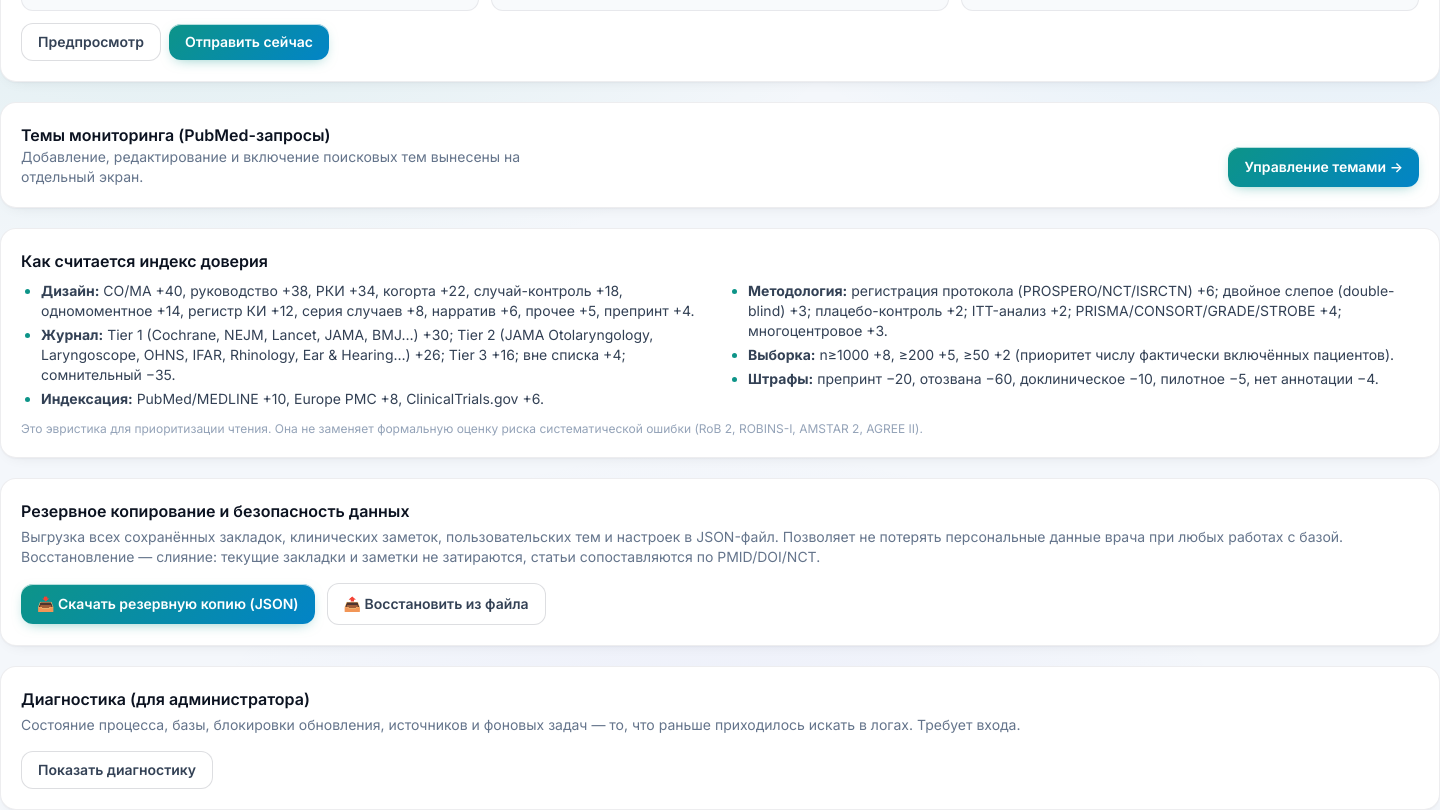
<SettingsPanel /> › диагностика: ошибка действия показывает текст сервера
The width and height of the screenshot is (1440, 810).
(page scrolled)
Step 1. Click the button "Показать диагностику" → coordinates (117, 770), box [21,750,213,788]
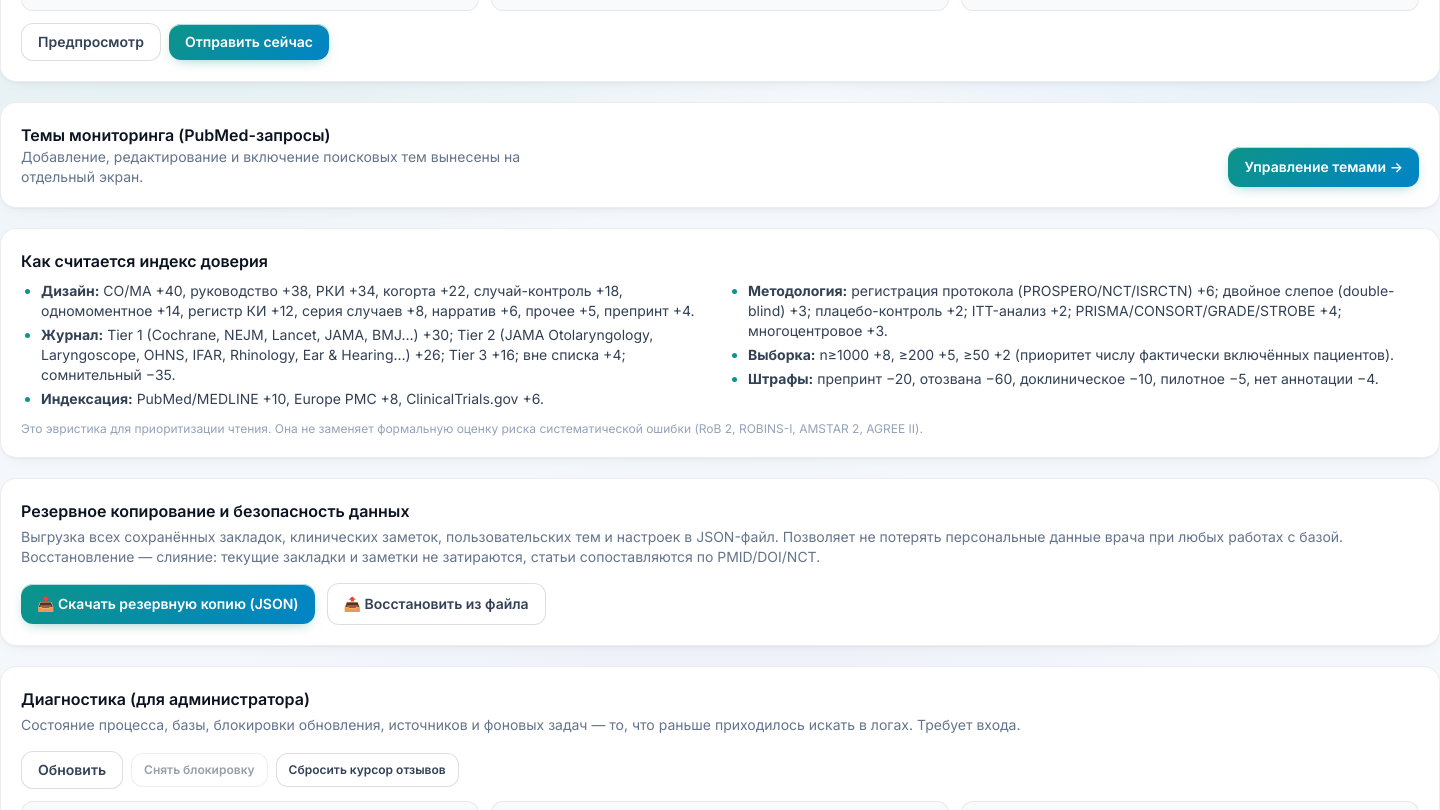
Step 2. Click the button "Сбросить курсор отзывов" → coordinates (367, 770), box [276,752,459,786]
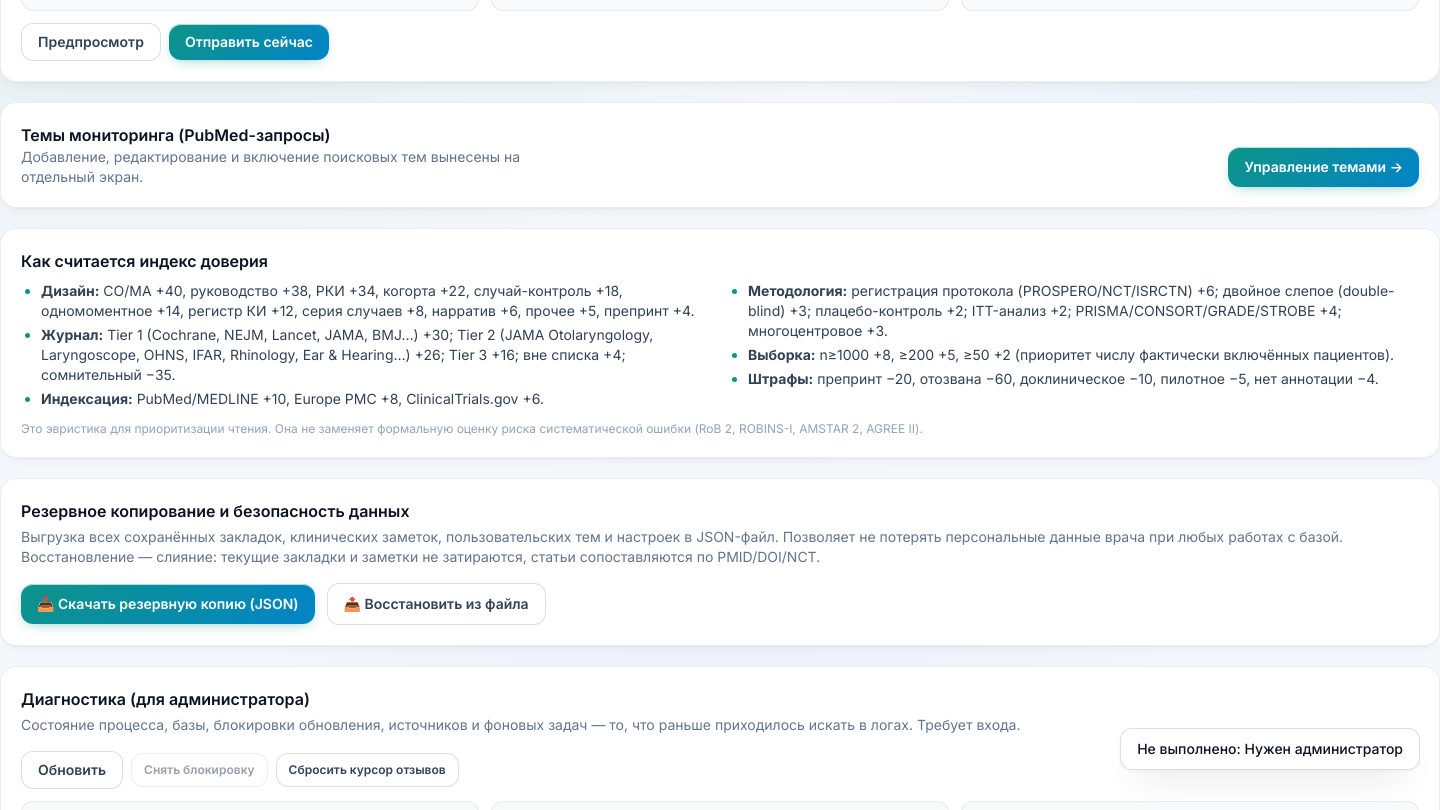
Now the text "Не выполнено: Нужен администратор" is shown, box [1120,728,1420,770]
